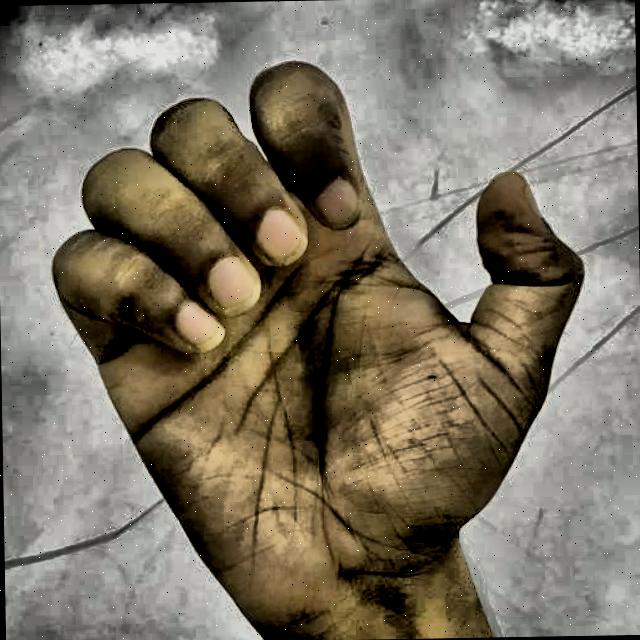Dho: (28, 40, 604, 634)
